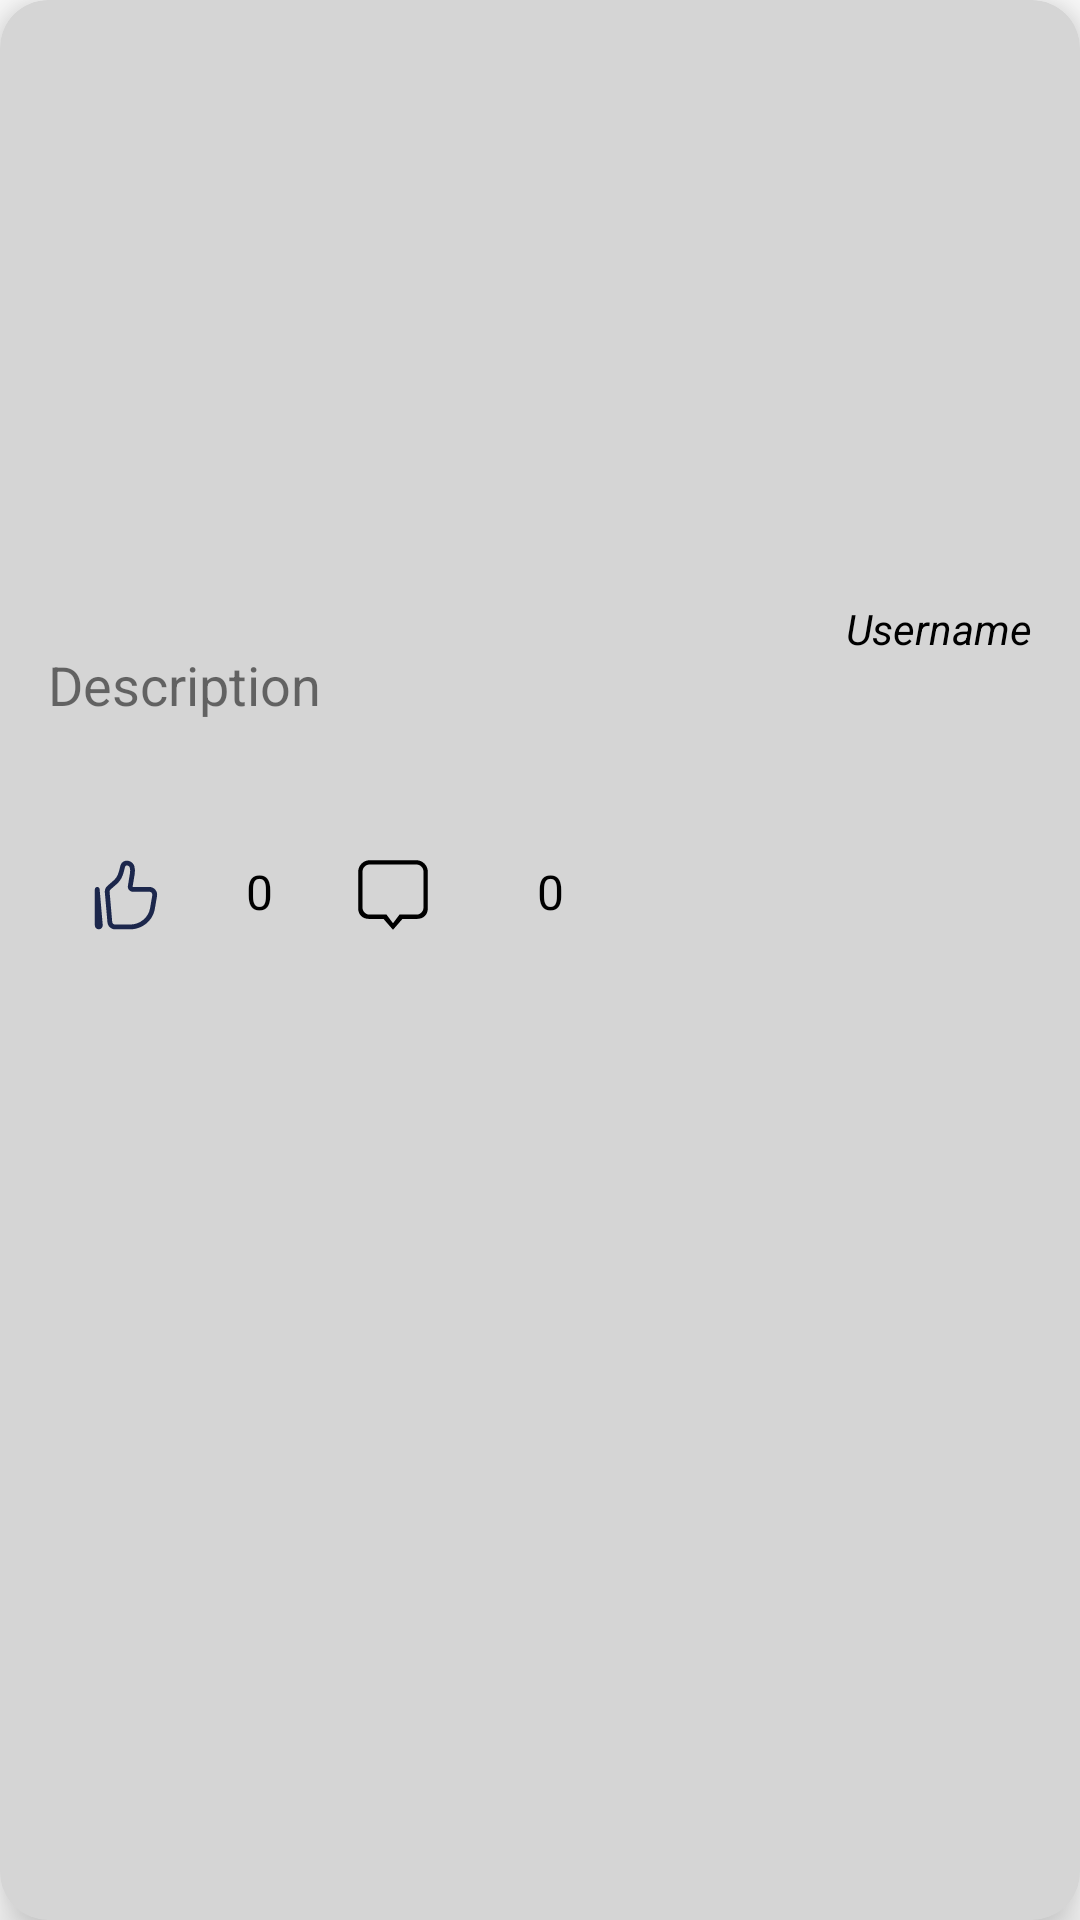

Point at icon controls on the screen. Image size 1080x1920, points as point (x, y).
comment: point (393, 895)
like: point (125, 895)
